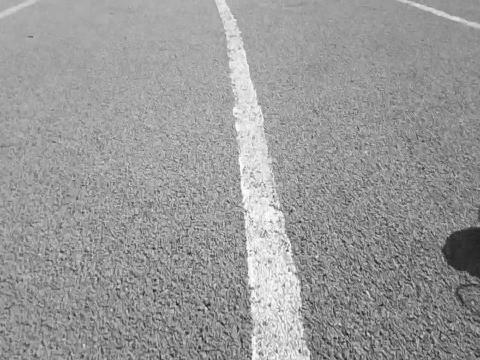Lines: (214, 0, 313, 360)
